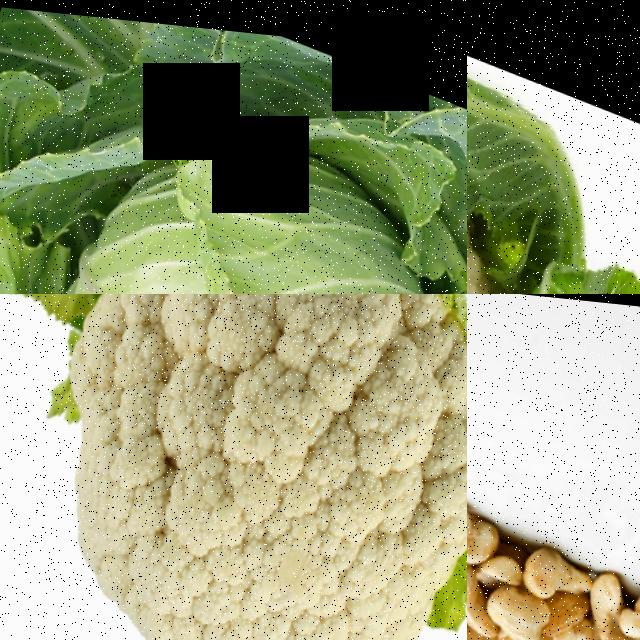cabbage: (0, 0, 467, 294)
cashew: (565, 525, 640, 640), (487, 560, 564, 640), (467, 576, 501, 640), (467, 536, 490, 611)
cauliflower: (0, 294, 467, 640), (467, 0, 640, 294)
